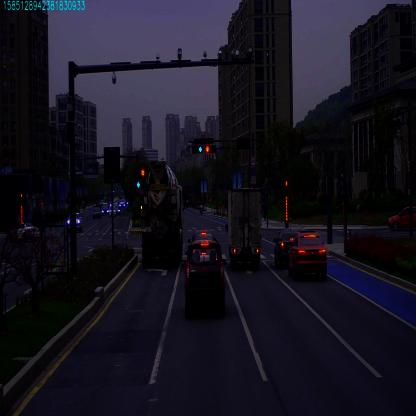traffic-light: (192, 146, 204, 154), (205, 146, 214, 153)
